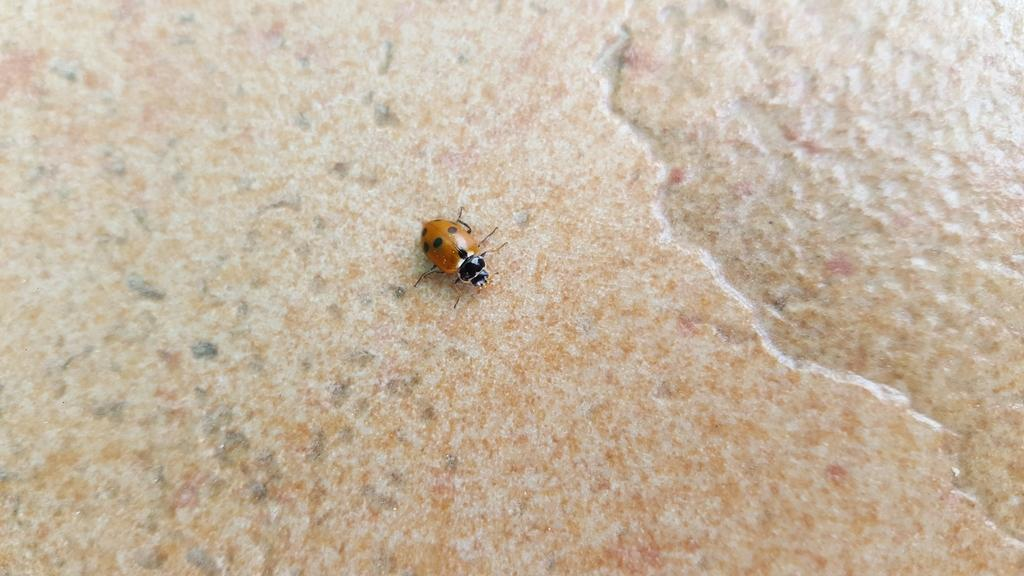ladybug: (414, 204, 513, 311)
